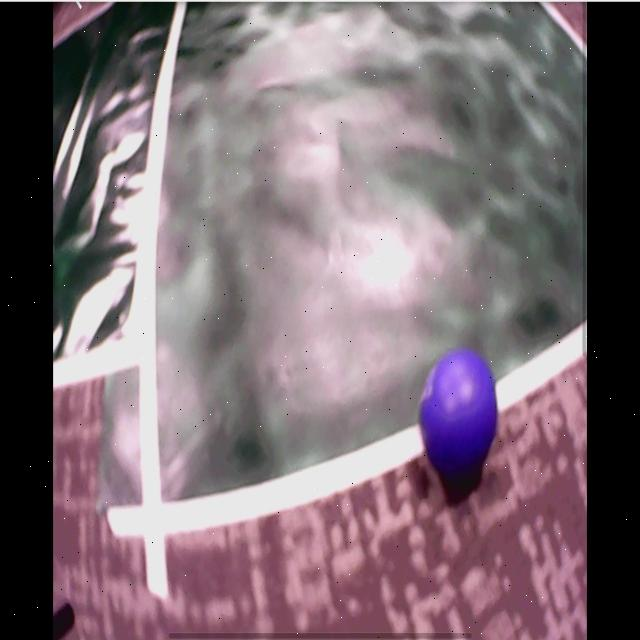ball: (420, 348, 502, 475)
